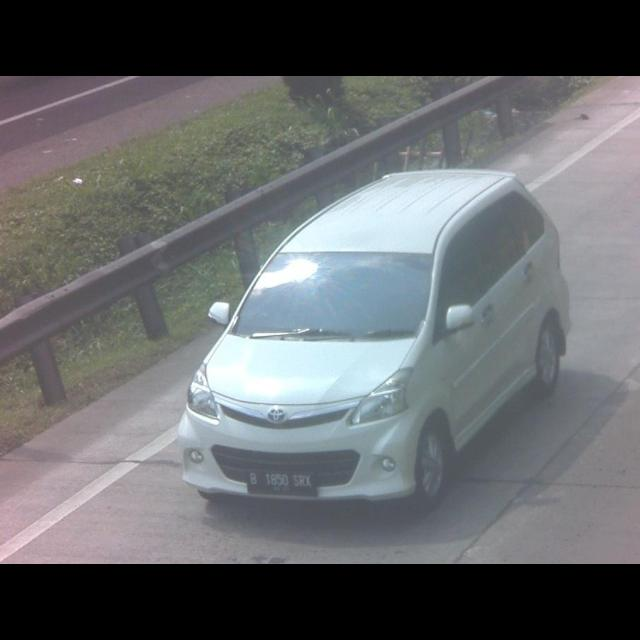plate: (245, 471, 317, 497)
